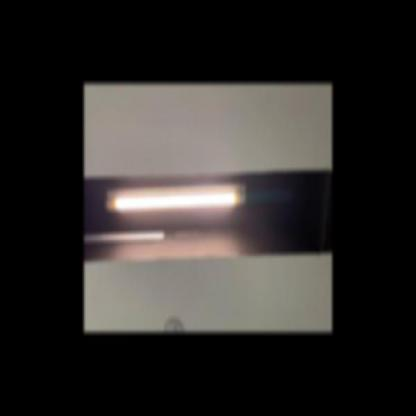light_on: (100, 175, 254, 219)
